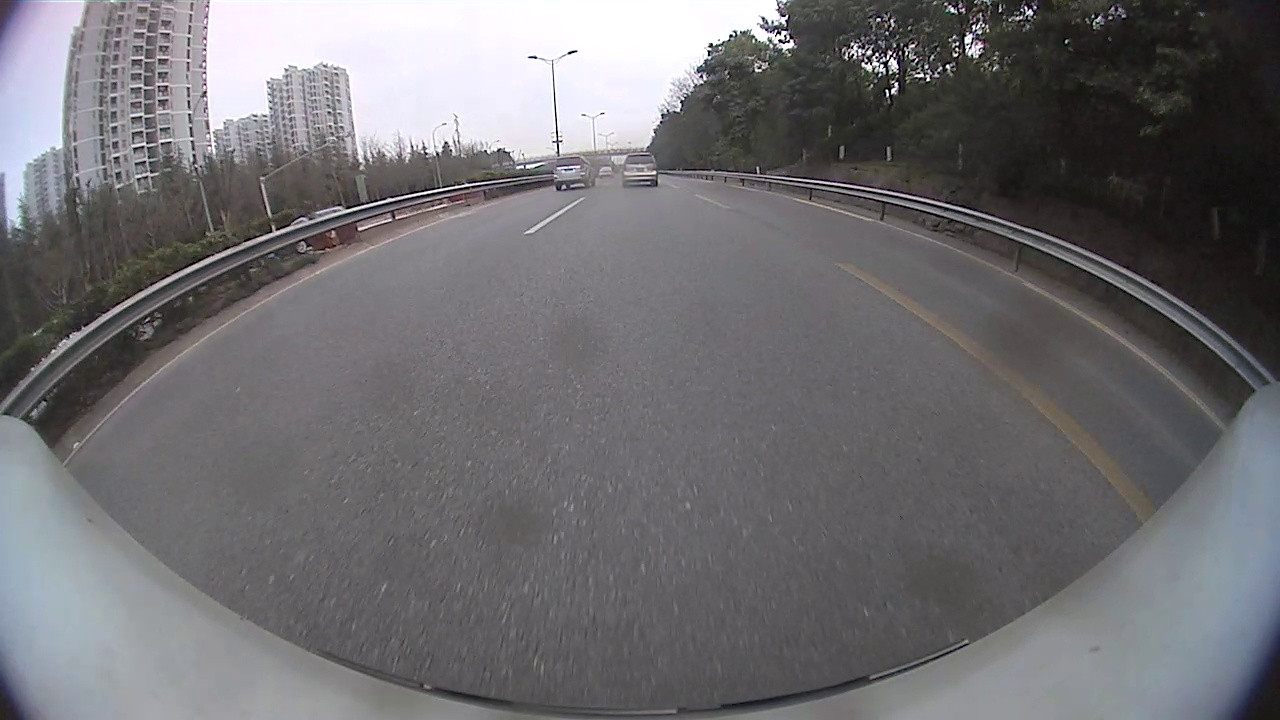car: (554, 155, 596, 190), (622, 152, 660, 189)
